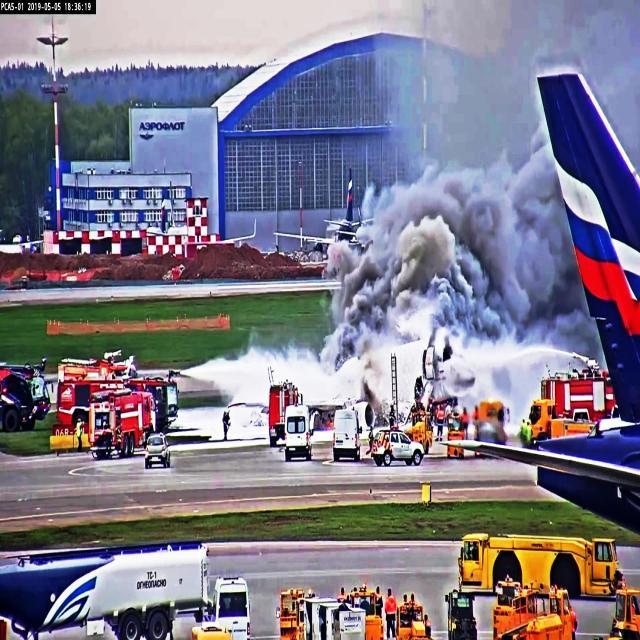Smoke: (333, 133, 591, 364), (388, 0, 640, 145)
